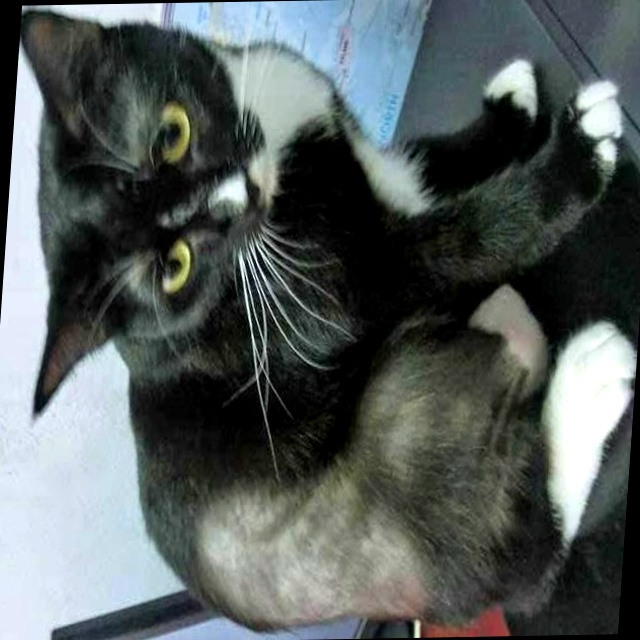hairloss: (187, 499, 463, 624)
